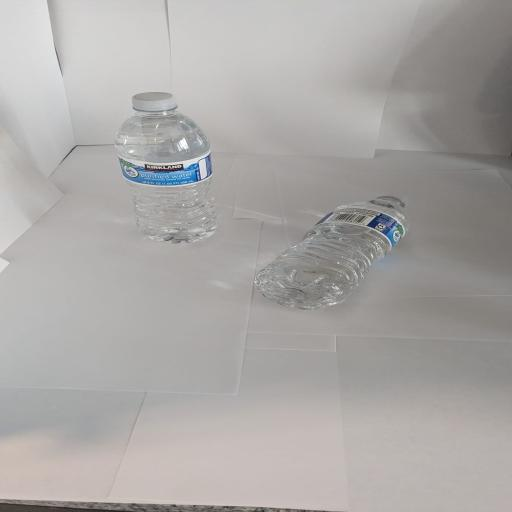waterbottle: (256, 196, 407, 309), (115, 93, 216, 242)
